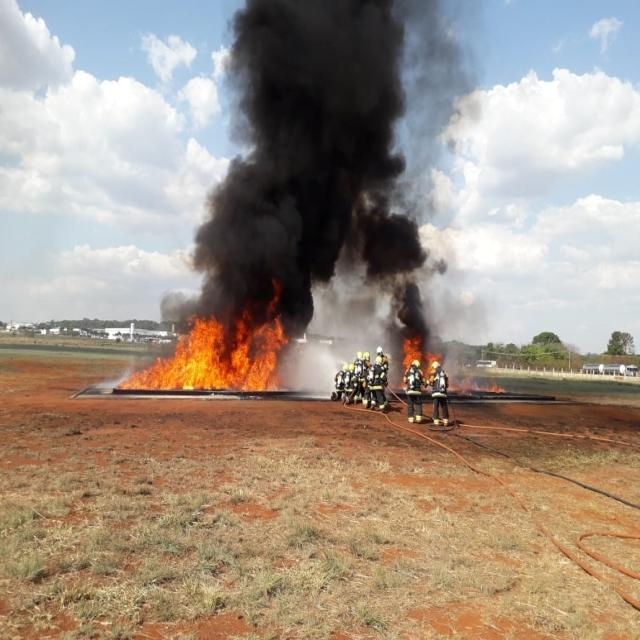fire: (116, 328, 282, 389)
